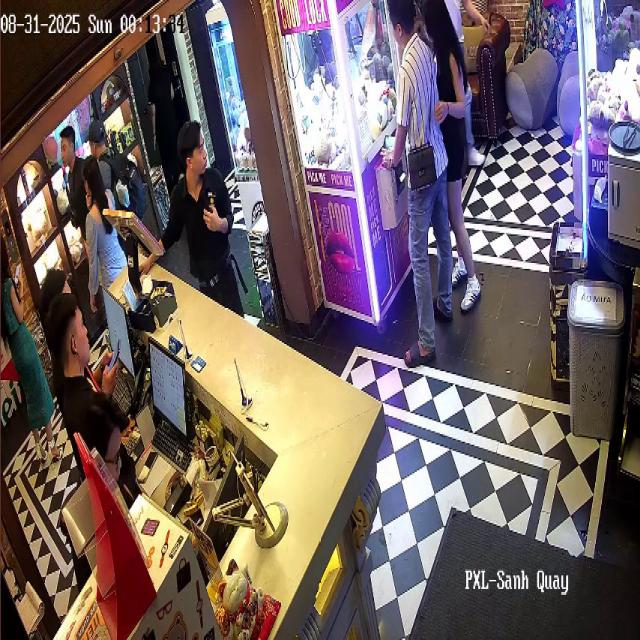khach: (384, 4, 452, 359), (426, 1, 479, 312), (78, 153, 134, 328), (454, 0, 488, 172), (57, 121, 84, 246), (89, 111, 122, 176)
nhan vien: (158, 119, 245, 336), (45, 285, 115, 503), (0, 228, 55, 472), (144, 55, 180, 175)
